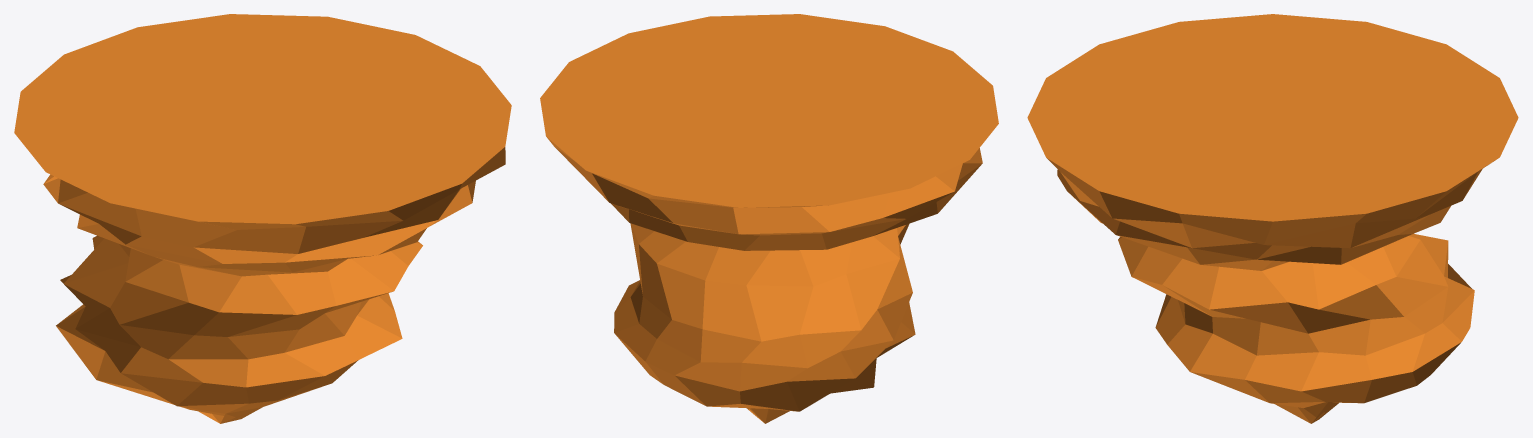
Rendered from island_model.glb.
3 renders of one model, left to right at view 1: azimuth 30°, elevation 25°; view 2: azimuth 150°, elevation 25°; view 3: azimuth 270°, elevation 25°, orthographic. The views are drawn at different scales.
Parts seen in each view (by area): view 1: Cylinder; view 2: Cylinder; view 3: Cylinder.
Part boxes in pixels (x1,y1,x2,y2): Cylinder: (14,14,511,423); Cylinder: (540,14,998,423); Cylinder: (1027,14,1518,423).
Size of the model in its own units: 13.72 by 9.58 by 13.72.
